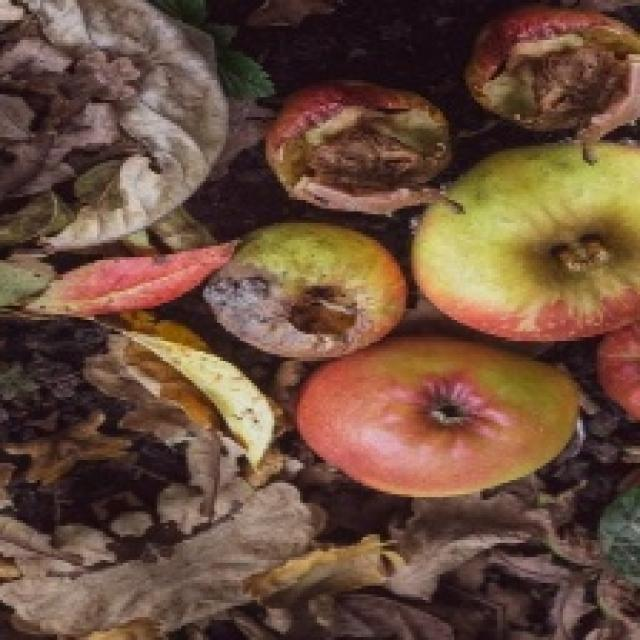rotten_apple: (206, 225, 407, 352), (268, 82, 447, 208), (464, 7, 640, 132)
